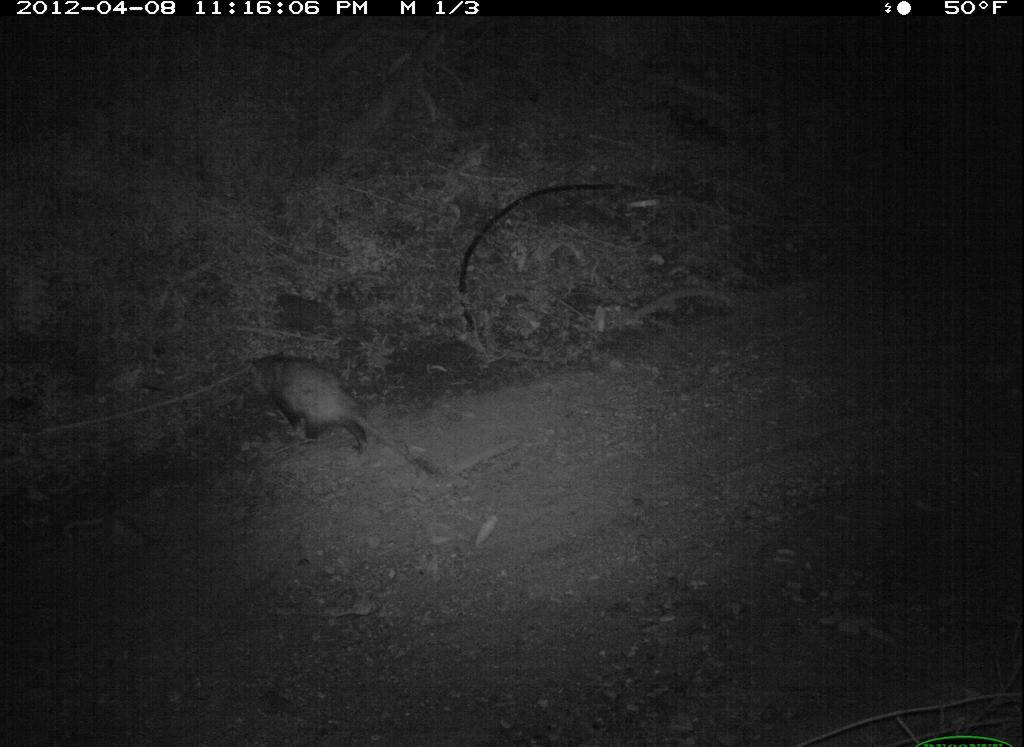opossum: (222, 337, 419, 469)
